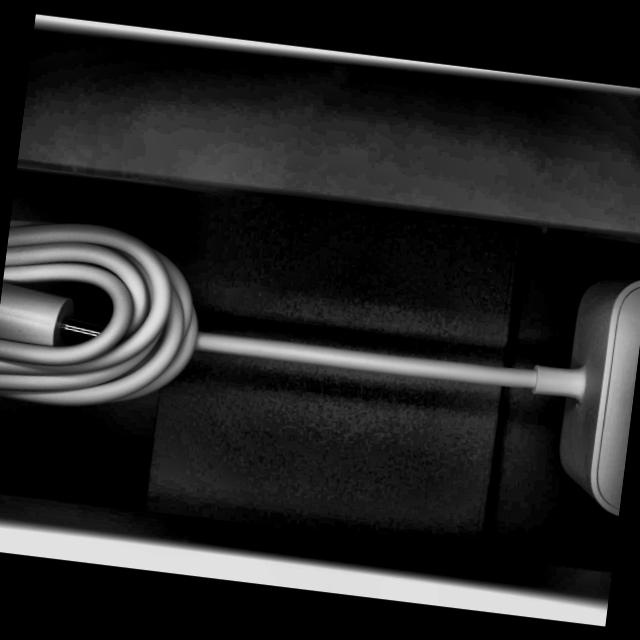Cable: (0, 189, 640, 519)
